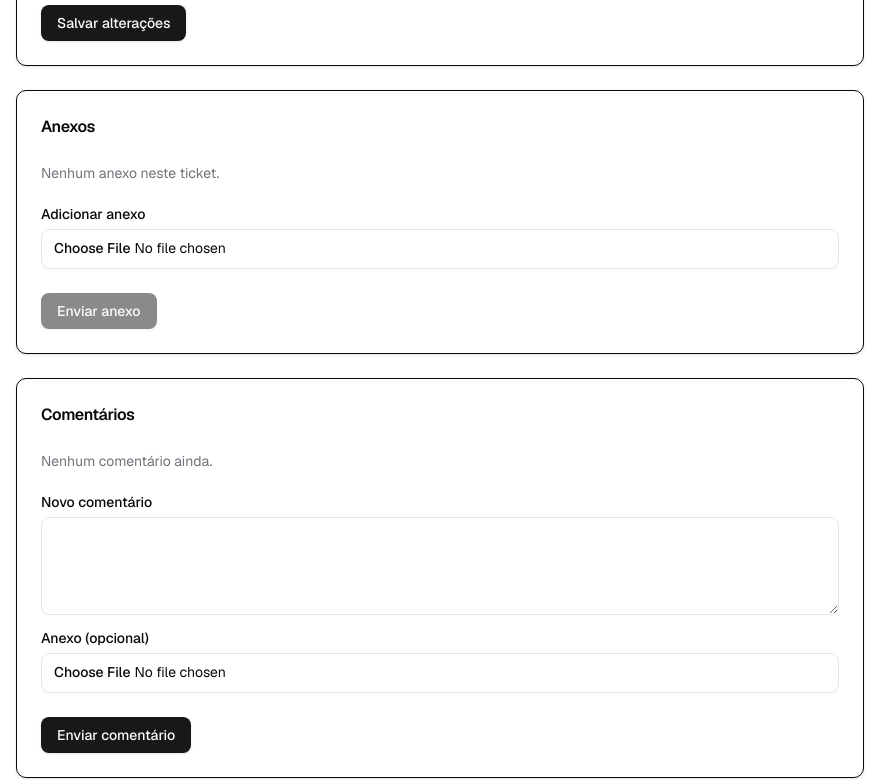
TicketDetailPage (SPEC-07) › CUSTOMER consegue enviar um novo comentário e ele aparece na lista imediatamente (RF04)
This screenshot has width=881, height=780.
(page scrolled)
Type "Consegui resolver sozinho, obrigado." into the text box labelled "Novo comentário" at (440, 566), box [41,517,839,615]
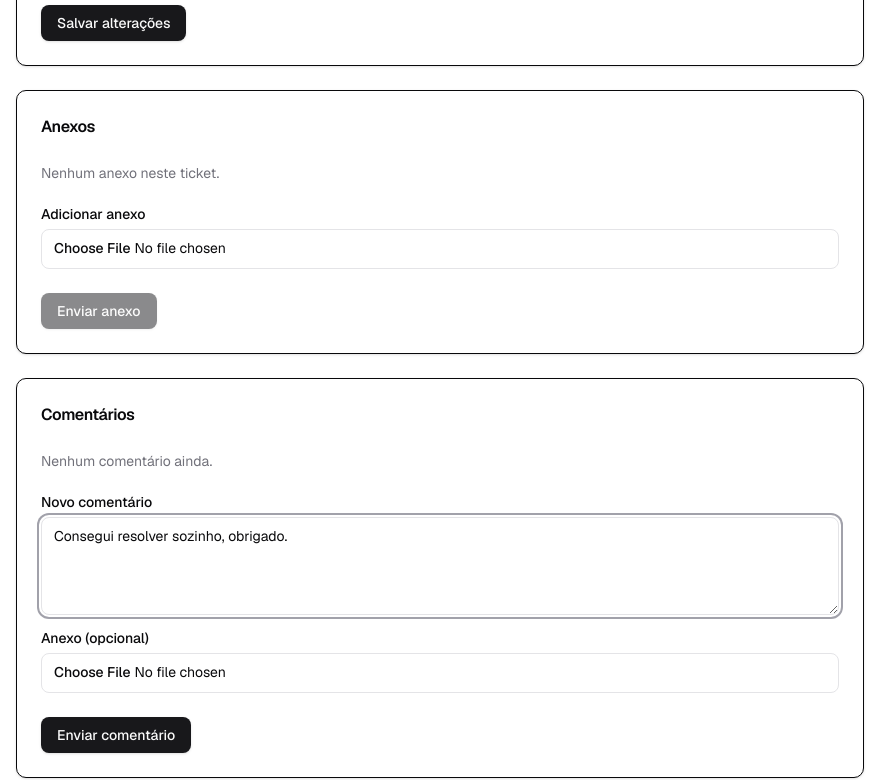
Click the button "Enviar comentário" at (116, 735), box [41,717,191,753]
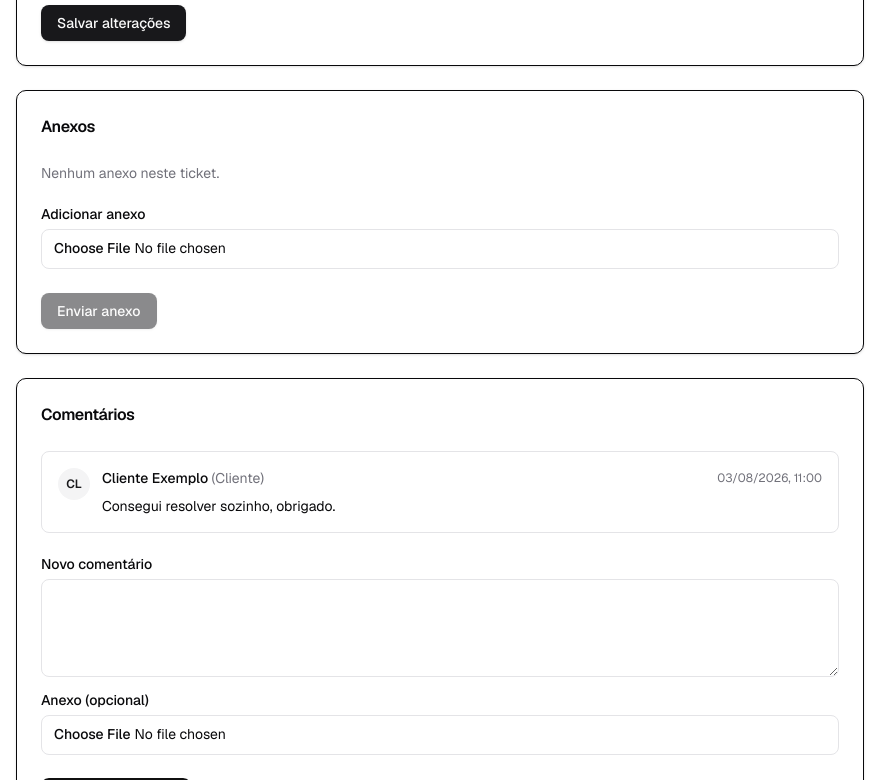
Result: the text "Consegui resolver sozinho, obrigado." is shown at [102,497,335,515]
